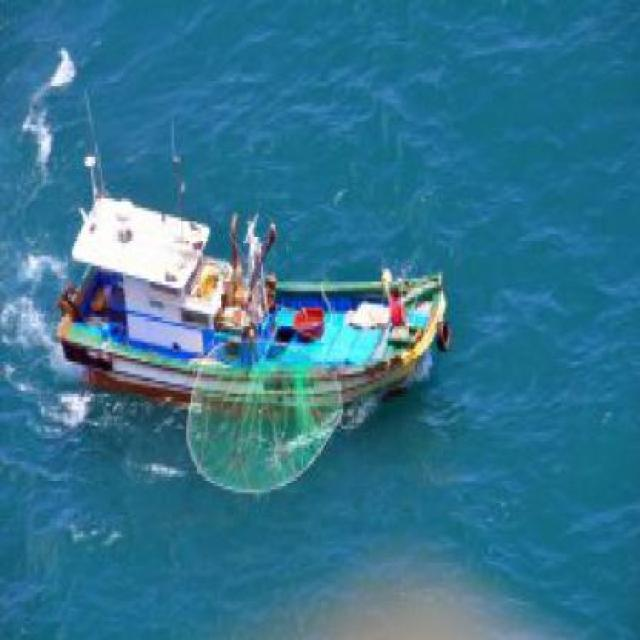fish-b: (41, 46, 470, 433)
